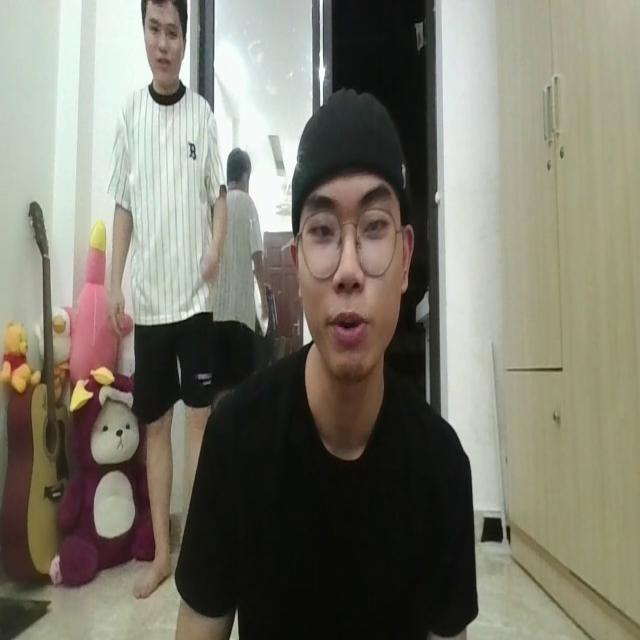extra_person: (104, 2, 226, 572)
student: (181, 83, 476, 640)
